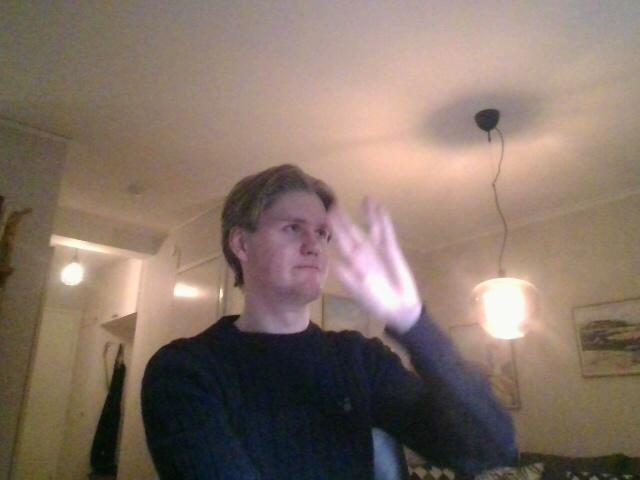LiveLong: (324, 193, 419, 320)
